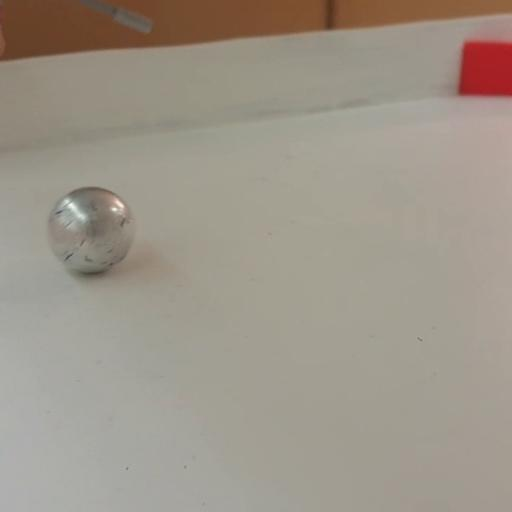alive: (45, 184, 138, 274)
